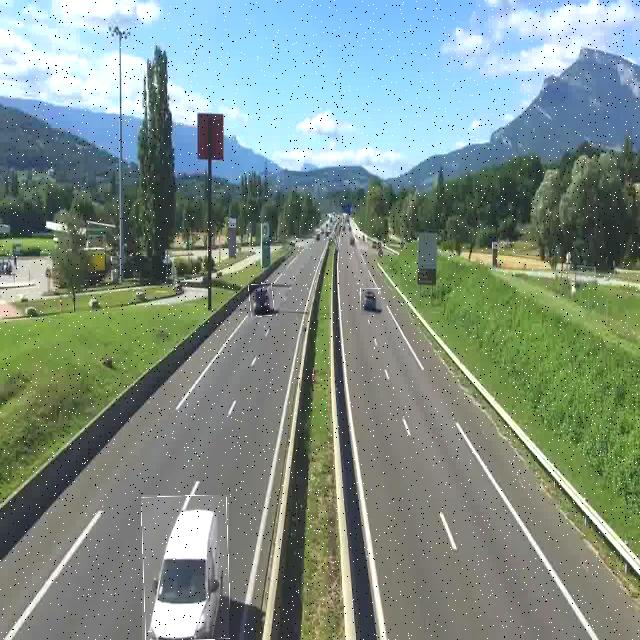Car: (142, 495, 229, 640), (249, 283, 274, 317), (360, 288, 381, 315)
